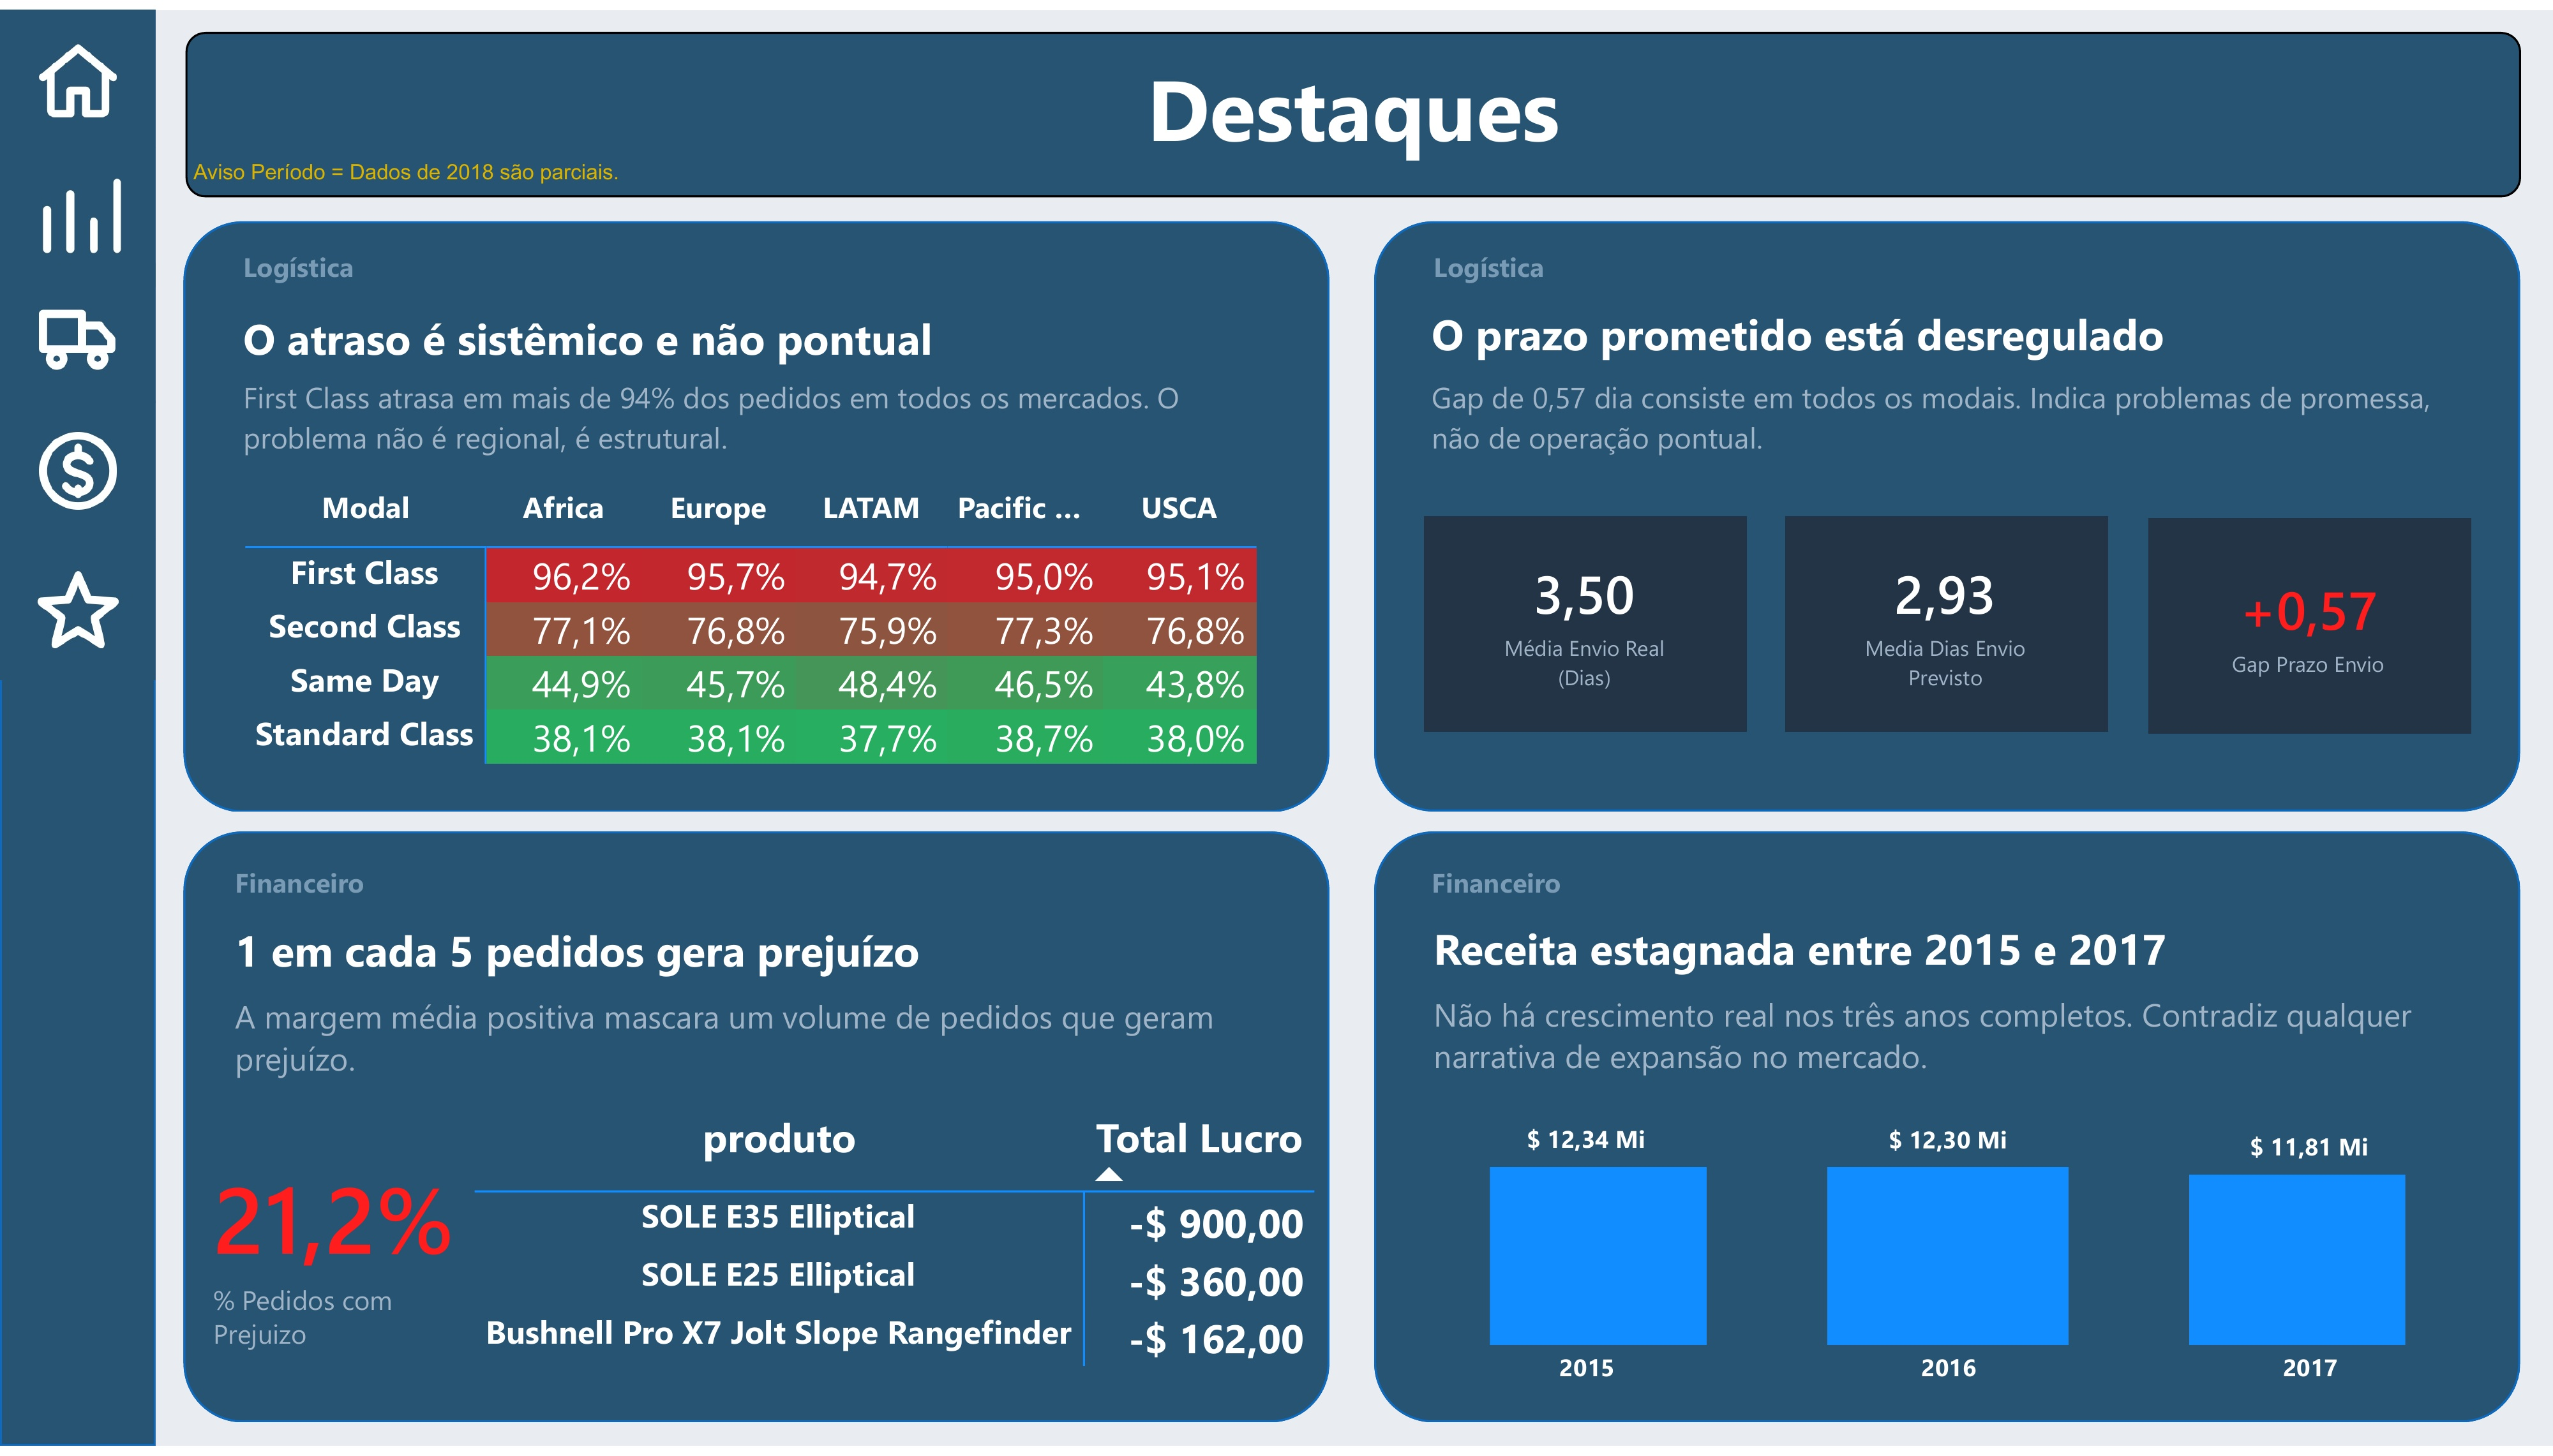

What the dashboard file says about the page in this screenshot:
{"tool":"powerbi","page":{"name":"Destaques","canvas":[1280,720],"ordinal":4},"visuals":[{"type":"shape","box":[0,0,78.3,720.2],"z":0},{"type":"textbox","box":[92.9,10.9,1171.5,83.2],"z":1000},{"type":"textbox","box":[92.3,65.6,449.4,40.1],"z":2000},{"type":"shape","box":[92.3,105.7,574.5,296.4],"z":3000},{"type":"shape","box":[688.7,105.7,574.5,296],"z":4000},{"type":"shape","box":[92.3,411.8,574.5,296.4],"z":5000},{"type":"shape","box":[688.7,411.8,574.5,296.4],"z":6000},{"type":"clusteredColumnChart","fields":{"Category":["dCalendario.Date.Variation.Hierarquia de datas.Ano"],"Y":["vw_vendas.Receita Total"]},"box":[742.4,543.4,469.3,156.4],"z":7000},{"type":"textbox","box":[714.2,450.6,388.7,54.7],"z":8000},{"type":"textbox","box":[714.2,488.3,524.7,54.7],"z":9000},{"type":"textbox","box":[713,423.9,388.7,54.7],"z":10000},{"type":"cardVisual","fields":{"Data":["vw_vendas.Media Dias Envio Real"]},"box":[714.2,253.9,161.5,108.1],"z":11000},{"type":"cardVisual","fields":{"Data":["vw_vendas.Media Dias Envio Previsto"]},"box":[895.2,253.9,161.5,108.1],"z":12000},{"type":"cardVisual","fields":{"Data":["vw_vendas.Gap Prazo Envio"]},"box":[1077.4,255.1,161.5,108.1],"z":13000},{"type":"textbox","box":[714.2,115.4,388.7,54.7],"z":14000},{"type":"textbox","box":[713,143.3,388.7,54.7],"z":15000},{"type":"textbox","box":[713,178.6,524.7,54.7],"z":16000},{"type":"pivotTable","fields":{"Values":["vw_vendas.Total Lucro"],"Rows":["vw_vendas.produto"]},"box":[233.3,544.8,469.3,155.1],"z":17000},{"type":"cardVisual","fields":{"Data":["vw_vendas.% Pedidos com Prejuizo"]},"box":[78.2,554.4,196.2,137.2],"z":18000},{"type":"pivotTable","fields":{"Rows":["vw_vendas.modal_envio"],"Columns":["vw_vendas.mercado"],"Values":["vw_vendas.% Atraso"]},"box":[118,233.3,524.2,168.8],"z":19000},{"type":"textbox","box":[116.6,144.5,388.7,54.7],"z":20000},{"type":"textbox","box":[116.6,178.6,524.7,54.7],"z":21000},{"type":"textbox","box":[116.6,115.4,388.7,54.7],"z":22000},{"type":"textbox","box":[113,423.9,388.7,54.7],"z":22503},{"type":"textbox","box":[113,451.9,388.7,54.7],"z":23003},{"type":"textbox","box":[113.4,489.3,524.7,54.7],"z":23503},{"type":"image","box":[0,0,77.5,68.8],"z":23504},{"type":"image","box":[0,69,78,70],"z":23505},{"type":"image","box":[0,127,78,70],"z":23506},{"type":"image","box":[0,196,78,70],"z":23507},{"type":"image","box":[0,266,78,70],"z":23508}]}

Visuals, with their boxes on the page's 1280x720 design canvas (x1, y1, x2, y2). These are canvas units, not pixel positions in the 2553x1456 screenshot, which may show the page scaled, cropped or inside an application window:
shape: 0:0:78:720
textbox: 93:11:1264:94
textbox: 92:66:542:106
shape: 92:106:667:402
shape: 689:106:1263:402
shape: 92:412:667:708
shape: 689:412:1263:708
clusteredColumnChart - dCalendario.Date.Variation.Hierarquia de datas.Ano x vw_vendas.Receita Total: 742:543:1212:700
textbox: 714:451:1103:505
textbox: 714:488:1239:543
textbox: 713:424:1102:479
cardVisual - vw_vendas.Media Dias Envio Real: 714:254:876:362
cardVisual - vw_vendas.Media Dias Envio Previsto: 895:254:1057:362
cardVisual - vw_vendas.Gap Prazo Envio: 1077:255:1239:363
textbox: 714:115:1103:170
textbox: 713:143:1102:198
textbox: 713:179:1238:233
pivotTable - vw_vendas.Total Lucro x vw_vendas.produto: 233:545:703:700
cardVisual - vw_vendas.% Pedidos com Prejuizo: 78:554:274:692
pivotTable - vw_vendas.modal_envio x vw_vendas.mercado: 118:233:642:402
textbox: 117:144:505:199
textbox: 117:179:641:233
textbox: 117:115:505:170
textbox: 113:424:502:479
textbox: 113:452:502:507
textbox: 113:489:638:544
image: 0:0:78:69
image: 0:69:78:139
image: 0:127:78:197
image: 0:196:78:266
image: 0:266:78:336
